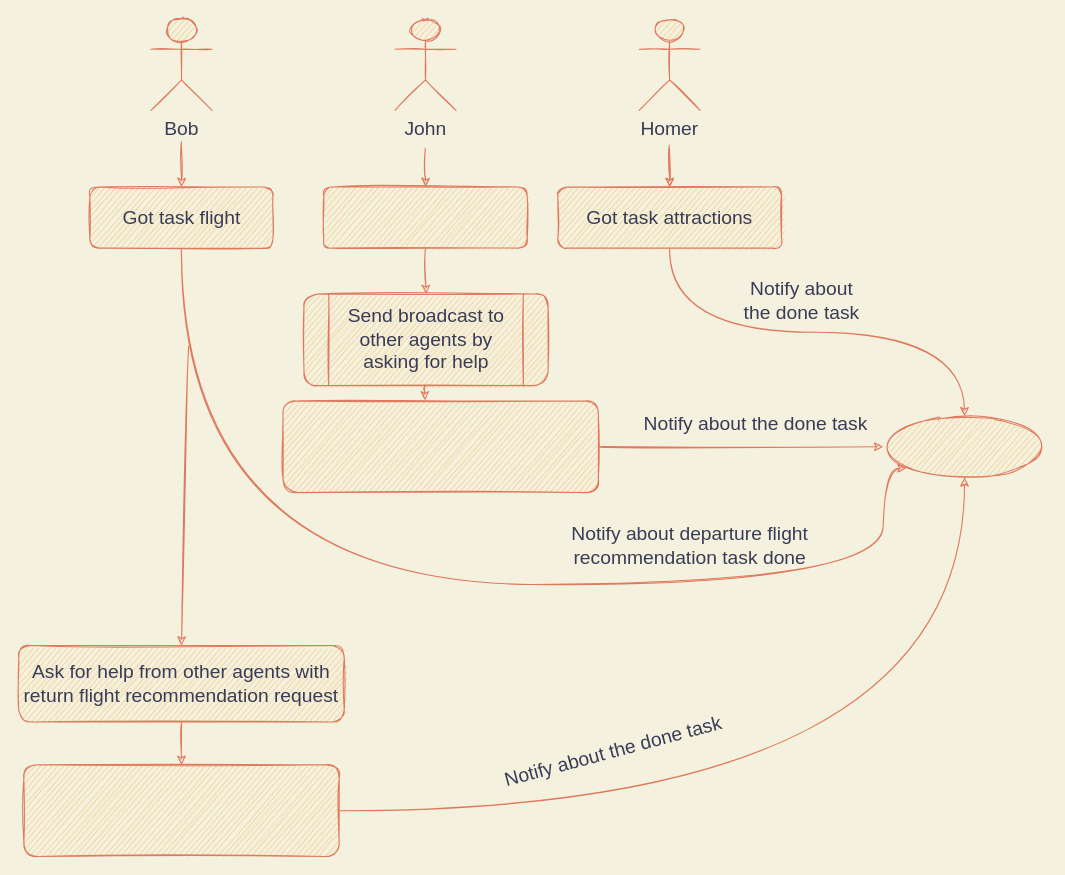
Some shapes in this 1065 by 875 pixel diagram are drawn without their labels. The shapes that lost their labels are listed below. From the top down, each one's centre as x and y in pixels, then its label:
[425,217]: Got task property
[440,446]: Received notification and completed the return flight recommendation task
[964,446]: Coordinator
[181,810]: Received notification and completed the property recommendation task
